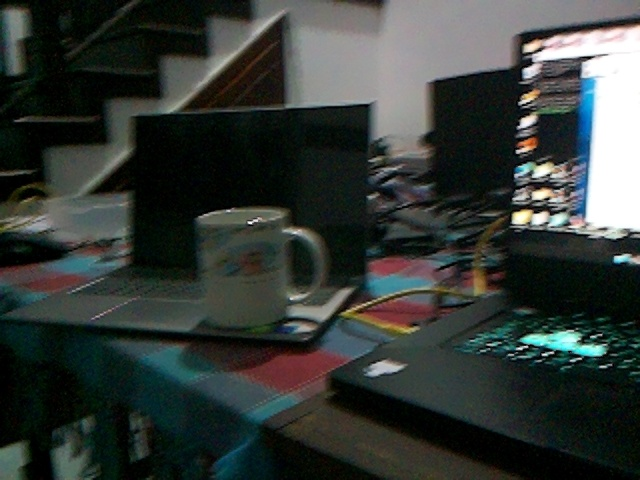mug: (191, 204, 327, 330)
